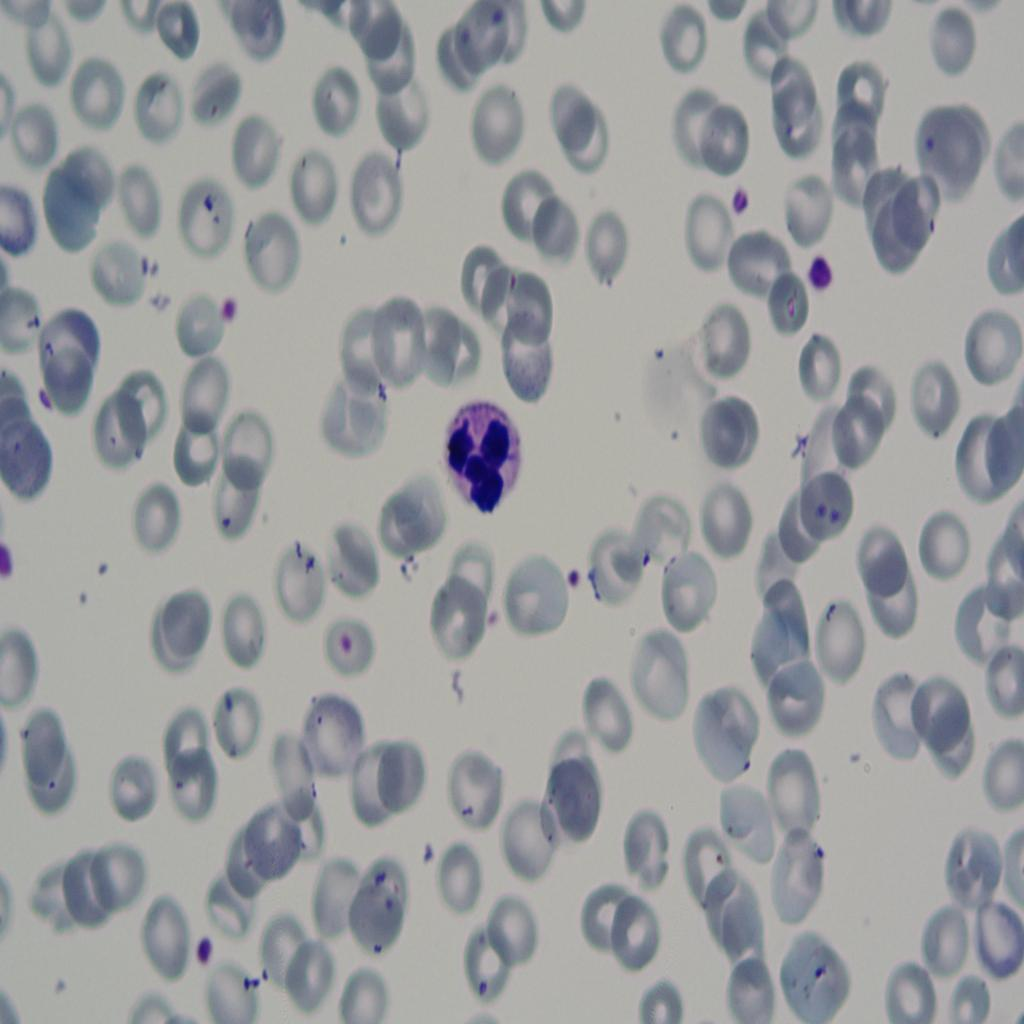Neutrofil: (432, 393, 535, 534)
Platelet: (792, 246, 832, 309), (724, 156, 758, 230), (190, 913, 226, 978), (215, 292, 237, 350), (561, 558, 586, 602), (0, 534, 20, 586)
